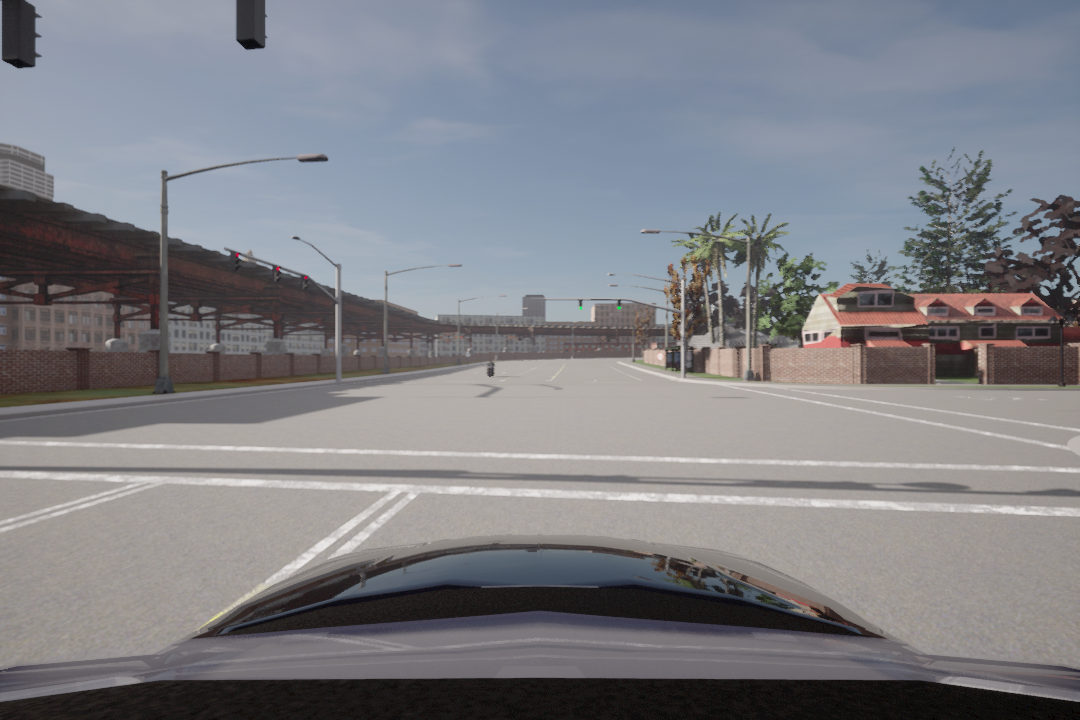TrafficLight: (271, 262, 281, 287), (229, 250, 240, 271), (301, 273, 309, 291), (617, 295, 623, 314), (577, 299, 582, 311)
